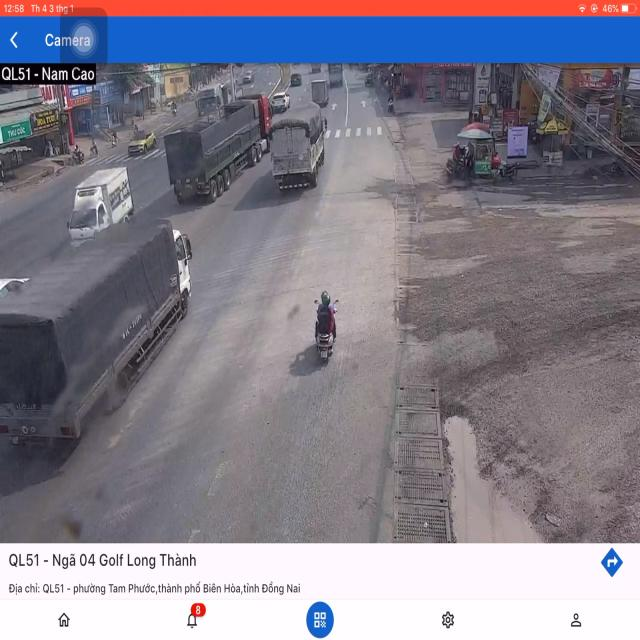car: (272, 91, 290, 115)
motorbike: (313, 290, 337, 364)
truck: (0, 197, 188, 470), (166, 97, 264, 205), (69, 168, 134, 244), (270, 108, 324, 191), (310, 76, 329, 107)
